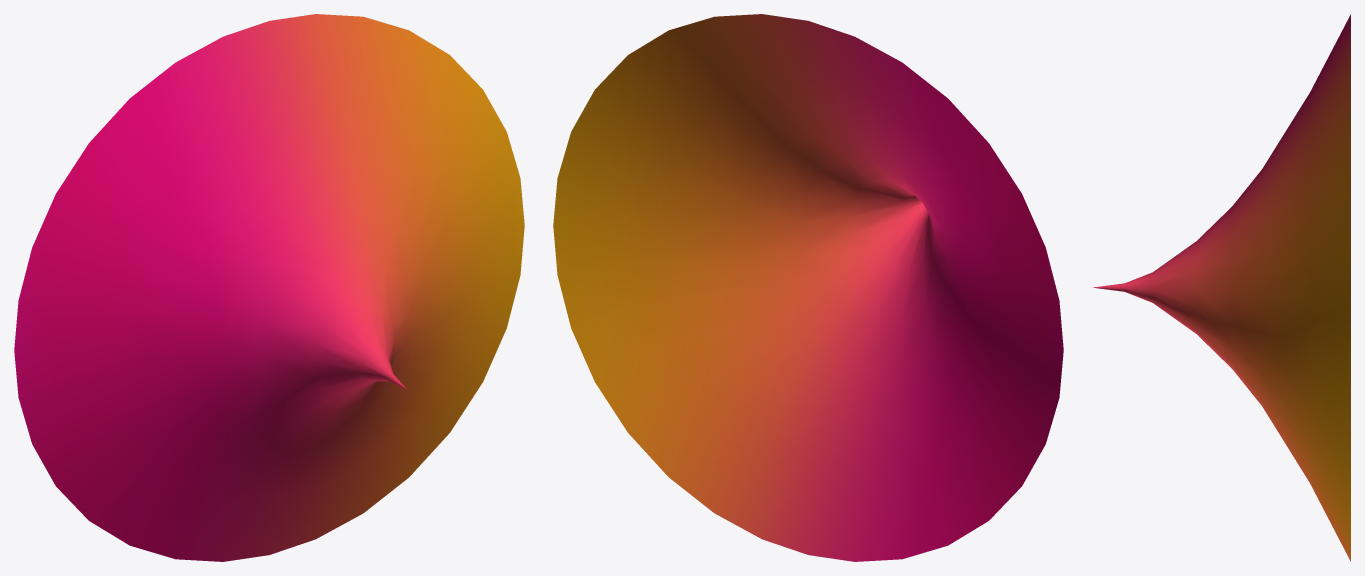
The model's file is superficie.fbx.
The picture shows the model from 3 angles, left to right: view 1: azimuth 30°, elevation 25°; view 2: azimuth 150°, elevation 25°; view 3: azimuth 270°, elevation 25°; orthographic projection. The views are drawn at different scales.
Parts seen in each view (by area): view 1: surface1; view 2: surface1; view 3: surface1.
Part boxes in pixels (x1,y1,x2,y2): surface1: [14, 14, 524, 561]; surface1: [553, 14, 1063, 561]; surface1: [1093, 14, 1350, 561].
Bounding box in the file's own units: 39.58 × 39.58 × 18.66.
